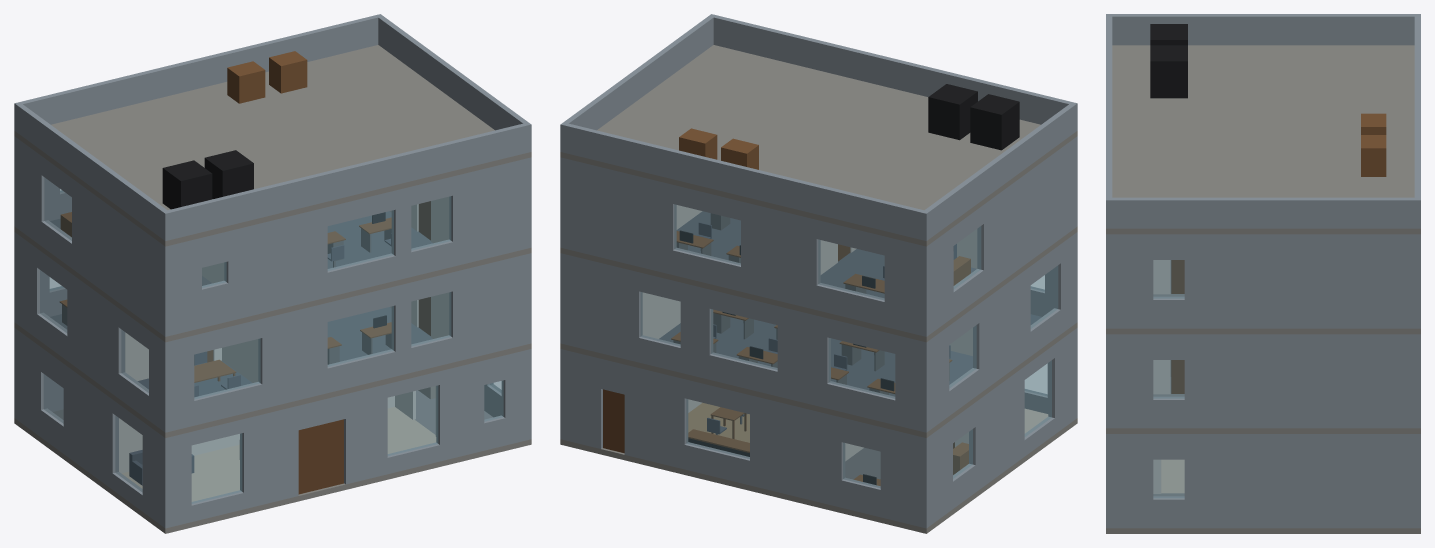
Rendered from office-block.glb.
The picture shows the model from 3 angles, left to right: view 1: azimuth 30°, elevation 25°; view 2: azimuth 150°, elevation 25°; view 3: azimuth 270°, elevation 25°; orthographic projection. The views are drawn at different scales.
Parts seen in each view (by area): view 1: roof_slab, roof_parapet_s, roof_parapet_n, wall_ext_south_f2_seg4, wall_ext_west_f2_seg4, wall_ext_south_f2_seg12, wall_ext_south_f1_seg12, wall_ext_south_f1_seg4, wall_ext_south_f0_seg4, wall_ext_west_f1_seg4, wall_ext_west_f0_seg4, roof_parapet_w (+75 smaller); view 2: roof_slab, roof_parapet_n, wall_ext_north_f2_seg8, roof_parapet_s, wall_ext_north_f0_seg4, wall_ext_west_f2_seg4, wall_ext_north_f1_seg12, wall_ext_north_f2_seg4, wall_ext_north_f0_seg8, wall_ext_west_f1_seg4, roof_parapet_w, wall_ext_north_f1_seg4 (+63 smaller); view 3: roof_slab, wall_ext_east_f2_seg0, wall_ext_east_f0_seg0, wall_ext_east_f1_seg0, roof_parapet_e, roof_parapet_w, wall_ext_east_f2_seg4, wall_ext_east_f0_seg4, wall_ext_east_f1_seg4, slab_f2, roof_water_tank_2_tank, slab_f0 (+26 smaller).
Part boxes in pixels (<box>): roof_slab: <box>14,45,531,246</box>; roof_parapet_s: <box>162,122,531,240</box>; roof_parapet_n: <box>14,14,383,132</box>; wall_ext_south_f2_seg4: <box>224,207,327,321</box>; wall_ext_west_f2_seg4: <box>72,178,161,333</box>; wall_ext_south_f2_seg12: <box>449,157,531,266</box>; wall_ext_south_f1_seg12: <box>449,253,531,362</box>; wall_ext_south_f1_seg4: <box>258,303,327,408</box>; wall_ext_south_f0_seg4: <box>240,406,298,509</box>; wall_ext_west_f1_seg4: <box>67,271,125,397</box>; wall_ext_west_f0_seg4: <box>63,364,118,489</box>; roof_parapet_w: <box>17,104,166,238</box>; roof_slab: <box>560,45,1077,246</box>; roof_parapet_n: <box>560,122,929,240</box>; wall_ext_north_f2_seg8: <box>560,157,676,274</box>; roof_parapet_s: <box>708,14,1077,132</box>; wall_ext_north_f0_seg4: <box>750,395,845,507</box>; wall_ext_west_f2_seg4: <box>977,139,1073,294</box>; wall_ext_north_f1_seg12: <box>560,253,642,362</box>; wall_ext_north_f2_seg4: <box>741,201,820,309</box>; wall_ext_north_f0_seg8: <box>624,364,688,469</box>; wall_ext_west_f1_seg4: <box>973,266,1030,393</box>; roof_parapet_w: <box>925,104,1074,238</box>; wall_ext_north_f1_seg4: <box>777,306,830,408</box>; roof_slab: <box>1106,45,1420,234</box>; wall_ext_east_f2_seg0: <box>1184,234,1412,328</box>; wall_ext_east_f0_seg0: <box>1184,434,1412,528</box>; wall_ext_east_f1_seg0: <box>1184,334,1412,428</box>; roof_parapet_e: <box>1112,197,1414,228</box>; roof_parapet_w: <box>1112,14,1414,45</box>; wall_ext_east_f2_seg4: <box>1114,234,1153,328</box>; wall_ext_east_f0_seg4: <box>1114,434,1153,528</box>; wall_ext_east_f1_seg4: <box>1114,334,1153,428</box>; slab_f2: <box>1106,328,1420,334</box>; roof_water_tank_2_tank: <box>1150,45,1187,98</box>; slab_f0: <box>1106,528,1420,533</box>.
Bounding box in the file's own units: 14 × 12 × 10.
